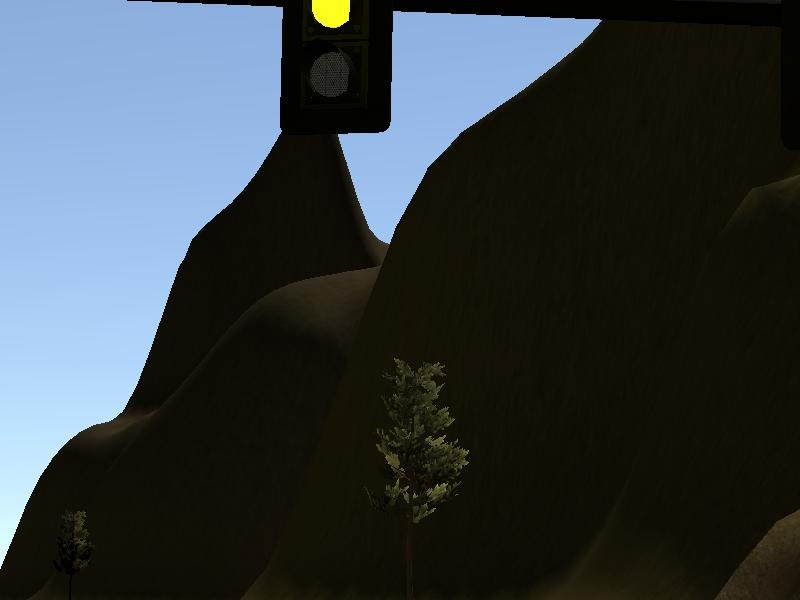yellow: (278, 1, 397, 139)
